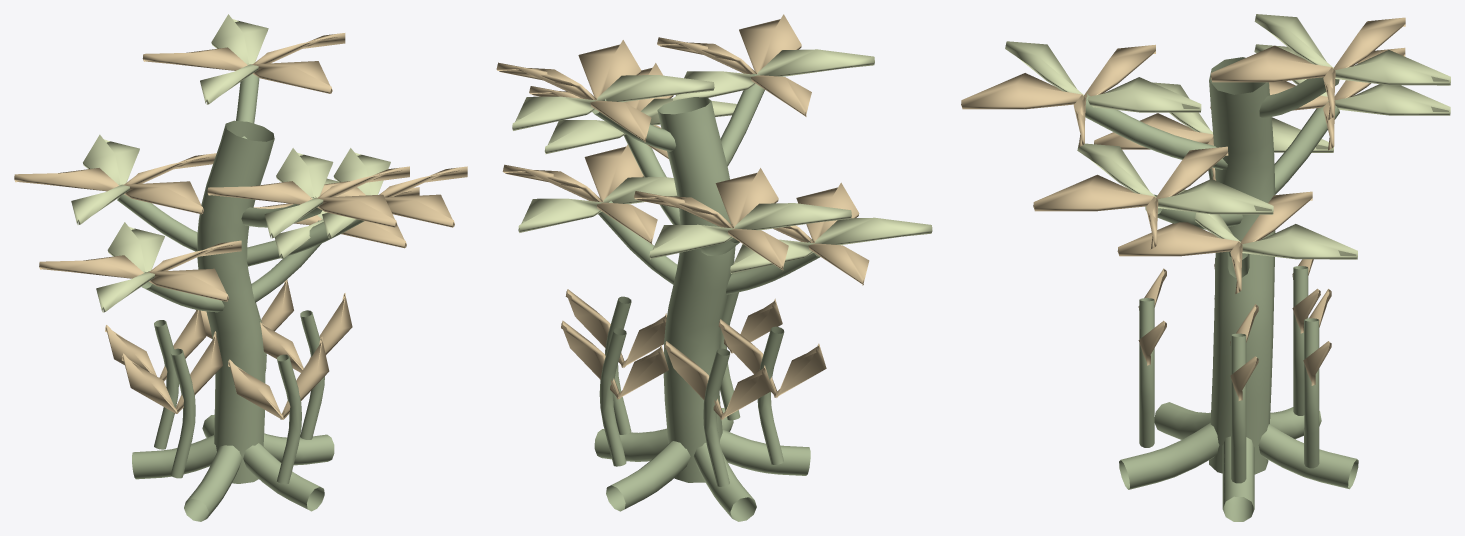
The model's file is bio_canopy_tree_02_far.glb.
3 renders of one model, left to right at view 1: azimuth 30°, elevation 25°; view 2: azimuth 150°, elevation 25°; view 3: azimuth 270°, elevation 25°, orthographic. The views are drawn at different scales.
Parts seen in each view (by area): view 1: Buttressed trunk, Broad canopy leaf.020, Broad canopy leaf.015, Broad canopy leaf.010, Broad canopy leaf.005, Broad canopy leaf.011, Broad canopy leaf.016, Broad canopy leaf.025, Broad canopy leaf.021, Broad canopy leaf.006, Secondary fan lobe.008, Secondary fan lobe.004 (+10 smaller); view 2: Buttressed trunk, Broad canopy leaf.015, Broad canopy leaf.005, Broad canopy leaf.010, Broad canopy leaf, Broad canopy leaf.016, Broad canopy leaf.006, Broad canopy leaf.011, Broad canopy leaf.021, Broad canopy leaf.001, Broad canopy leaf.020, Broad canopy leaf.026 (+11 smaller); view 3: Buttressed trunk, Broad canopy leaf.015, Broad canopy leaf.025, Broad canopy leaf.010, Broad canopy leaf, Broad canopy leaf.016, Broad canopy leaf.026, Broad canopy leaf.011, Broad canopy leaf.001, Broad canopy leaf.006, Branching support.003, Branching support (+9 smaller).
Boxes of the visible parts, x1,y1,x2,y2 form: Buttressed trunk: (117, 74, 364, 521); Broad canopy leaf.020: (39, 240, 241, 301); Broad canopy leaf.015: (142, 33, 345, 93); Broad canopy leaf.010: (207, 166, 409, 227); Broad canopy leaf.005: (14, 153, 216, 214); Broad canopy leaf.011: (264, 148, 333, 238); Broad canopy leaf.016: (200, 14, 268, 104); Broad canopy leaf.025: (320, 166, 467, 227); Broad canopy leaf.021: (96, 222, 164, 312); Broad canopy leaf.006: (71, 134, 139, 224); Secondary fan lobe.008: (122, 331, 222, 413); Secondary fan lobe.004: (228, 337, 329, 419); Buttressed trunk: (592, 73, 820, 521); Broad canopy leaf.015: (496, 40, 651, 142); Broad canopy leaf.005: (634, 168, 788, 270); Broad canopy leaf.010: (657, 14, 811, 116); Broad canopy leaf: (502, 144, 657, 244); Broad canopy leaf.016: (512, 75, 714, 130); Broad canopy leaf.006: (649, 203, 851, 259); Broad canopy leaf.011: (672, 49, 874, 101); Broad canopy leaf.021: (730, 217, 932, 273); Broad canopy leaf.001: (518, 177, 677, 232); Broad canopy leaf.020: (773, 182, 869, 285); Broad canopy leaf.026: (544, 98, 736, 154); Buttressed trunk: (1085, 57, 1358, 521); Broad canopy leaf.015: (1210, 17, 1405, 119); Broad canopy leaf.025: (1033, 146, 1228, 249); Broad canopy leaf.010: (961, 44, 1155, 147); Broad canopy leaf: (1117, 191, 1312, 293); Broad canopy leaf.016: (1254, 14, 1450, 85); Broad canopy leaf.026: (1077, 143, 1273, 214); Broad canopy leaf.011: (1005, 41, 1201, 112); Broad canopy leaf.001: (1177, 189, 1357, 259); Broad canopy leaf.006: (1254, 44, 1450, 115); Branching support.003: (1304, 318, 1319, 468); Branching support: (1231, 333, 1246, 483).
Size of the model in its own units: 2.97 by 2.99 by 2.93.
